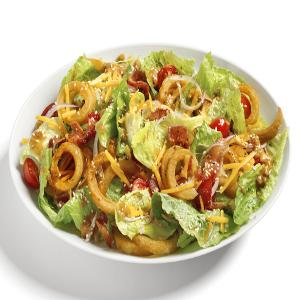fries: (37, 50, 282, 259)
